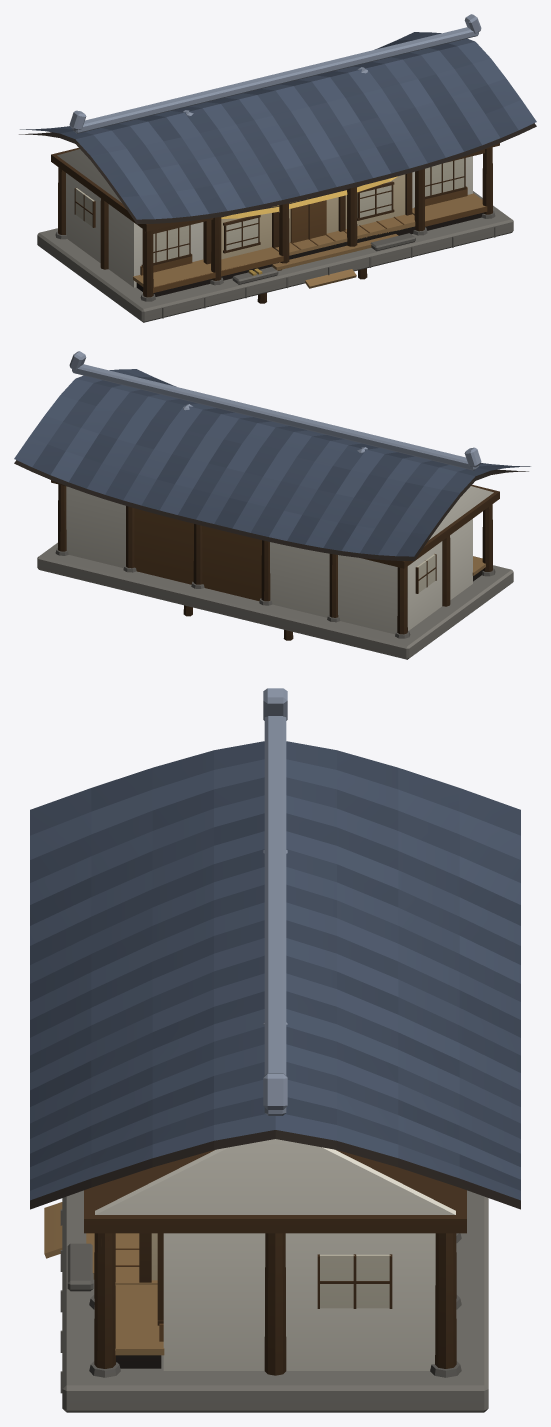
The model's file is night.glb.
3 renders of one model, top to bottom at view 1: azimuth 30°, elevation 25°; view 2: azimuth 150°, elevation 25°; view 3: azimuth 270°, elevation 25°, orthographic. The views are drawn at different scales.
Visible parts, largest first — view 1: anchae, choga_a, dock; view 2: anchae; view 3: anchae, choga_a, dock.
Boxes of the visible parts, x1,y1,x2,y2 form: anchae: (19, 14, 536, 322); choga_a: (203, 172, 412, 270); dock: (257, 268, 367, 303); anchae: (14, 351, 530, 659); anchae: (30, 688, 520, 1412); choga_a: (86, 1233, 157, 1282); dock: (44, 1202, 62, 1258).
Size of the model in its own units: 13.05 by 6.33 by 6.8.
